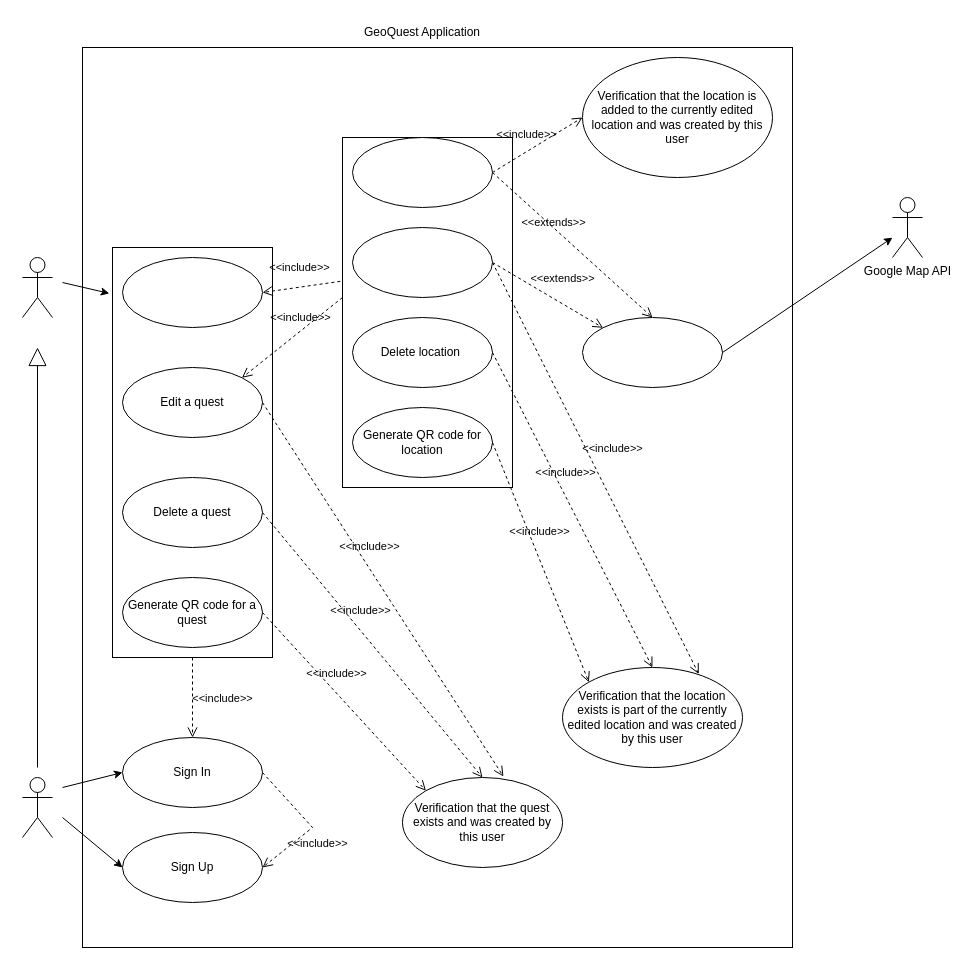
Some shapes in this 968 by 965 pixel diagram are drawn without their labels. The shapes that lost their labels are listed below. From the top down, each one's centre as x and y in pixels, then its label:
pixel 422 172: Add new location
pixel 422 262: Edit location
pixel 37 287: Creator
pixel 192 292: Create a quest
pixel 652 352: Choose pin on map to place location
pixel 37 807: User
